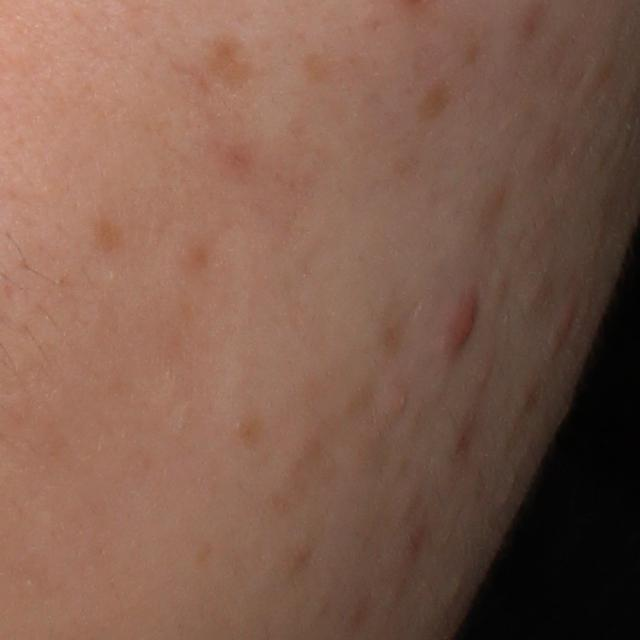papule: (437, 284, 486, 357), (553, 302, 577, 342)
